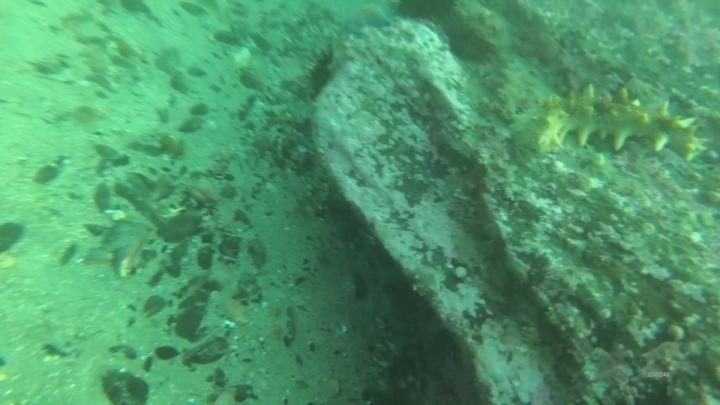echinus: (302, 44, 340, 102), (392, 1, 461, 27)
holothurian: (531, 83, 712, 164)
starfish: (337, 3, 398, 37)
